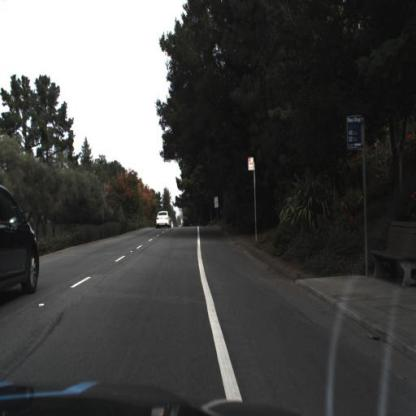car: (1, 179, 43, 313), (155, 211, 175, 234)
